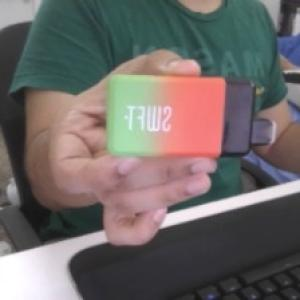Swift-E-Ciggirate: (97, 70, 280, 162)
